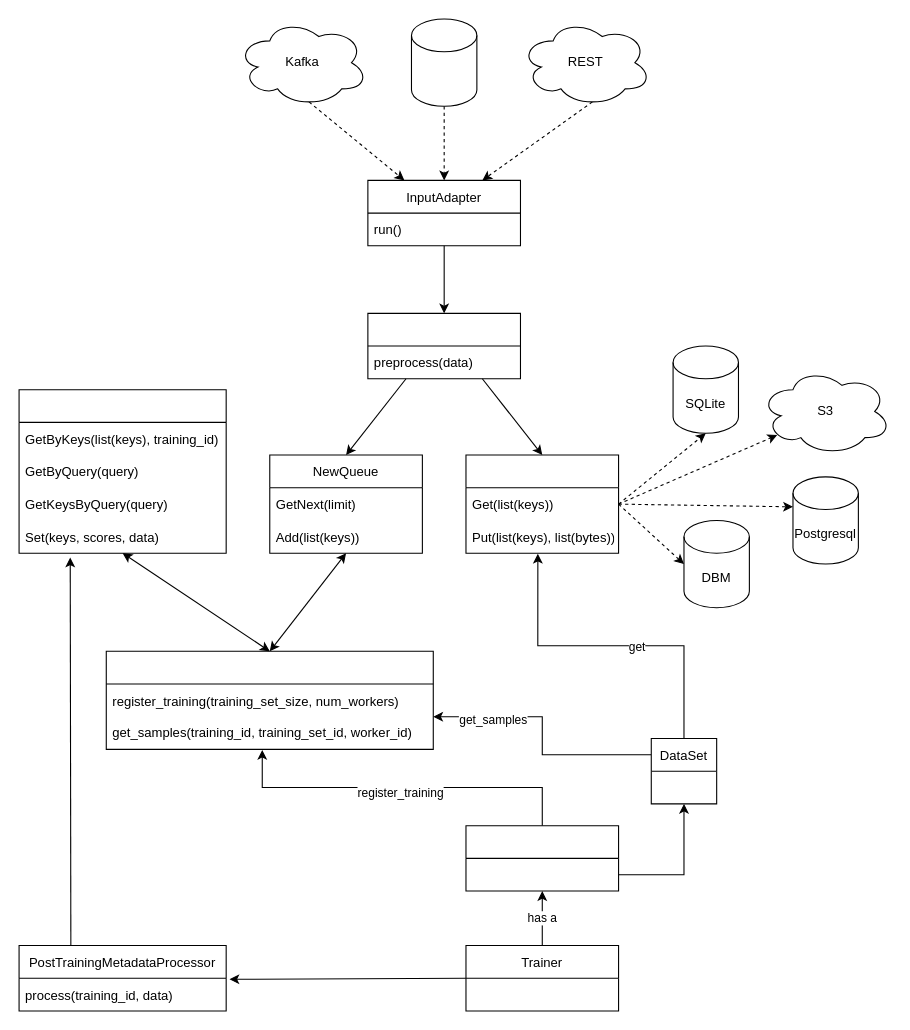
The diagram is 910 pixels wide and 1030 high, and some of its shapes have lost their labels. Here are the shapes that lost their labels. From the top down, the box of each, then its label:
(410, 18, 477, 106): MNIST
(367, 312, 520, 379): Preprocessor
(18, 389, 226, 553): OptimalDatasetMetadata
(465, 454, 619, 553): Storage
(105, 650, 433, 749): Selector
(465, 825, 619, 891): DataLoader
